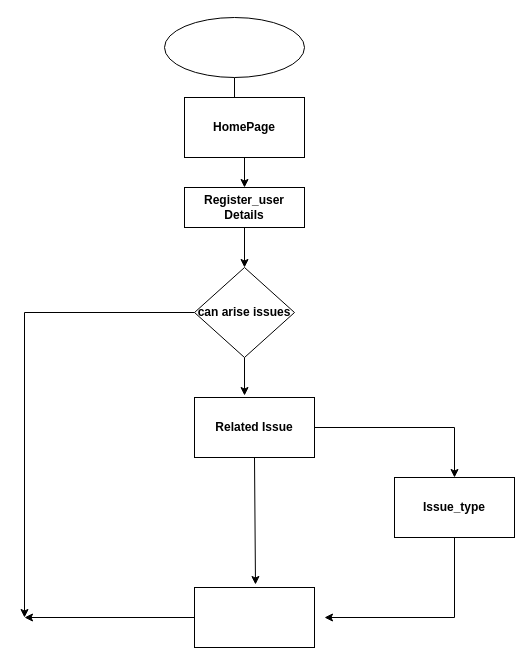
Image size: 532x665. Some labels were removed from this diagram. The centre of each missing label's shape, as x and y in pixels:
"Issue_Resolved by Staff" belongs at pixel 254 617.
"Start" belongs at pixel 234 47.
